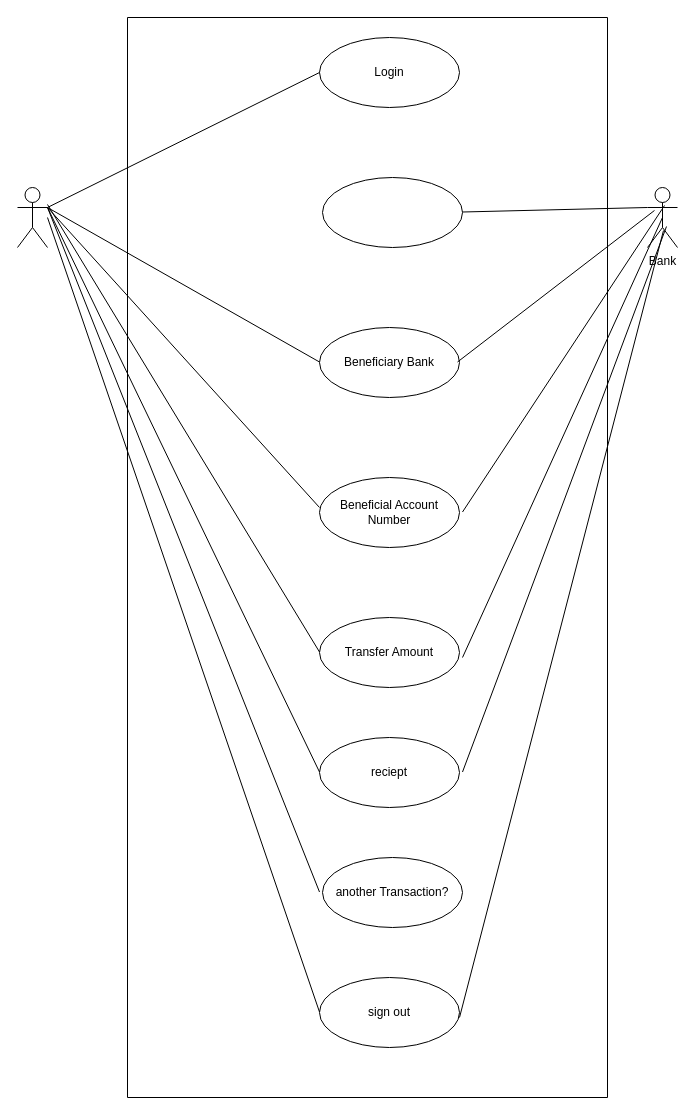
Some shapes in this 695 by 1115 pixel diagram are drawn without their labels. The centre of each missing label's shape, as x and y in pixels:
"Client" goes at (32,217).
"Transfer" goes at (392,212).
